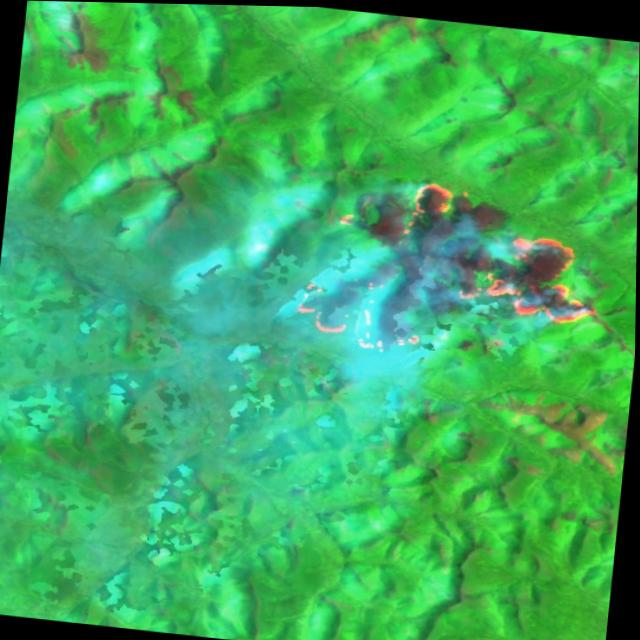fire: (285, 160, 613, 377)
